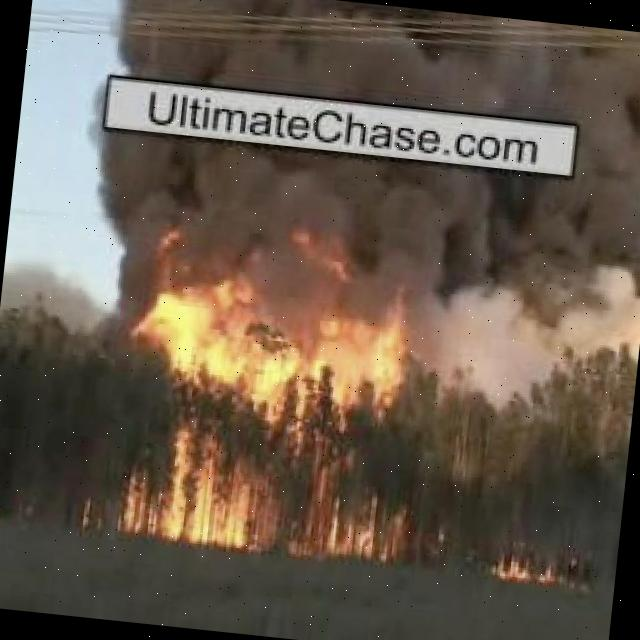fire: (122, 227, 435, 570), (489, 544, 563, 588)
